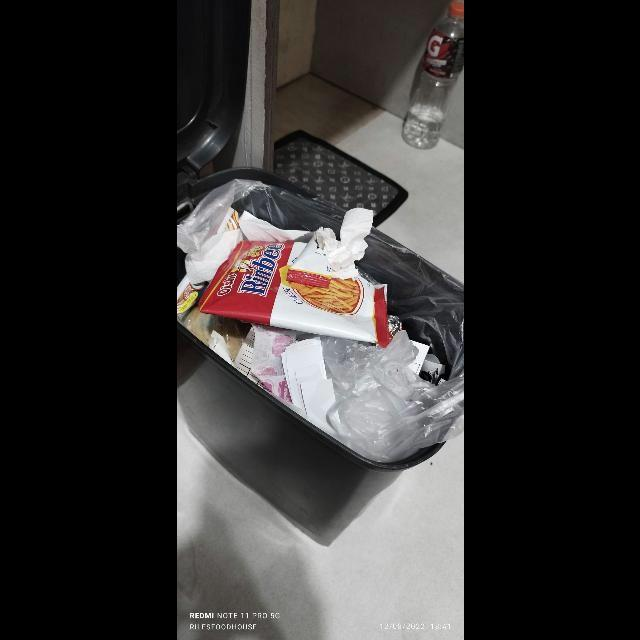food_wrapper: (197, 237, 389, 348)
paper: (184, 210, 310, 284), (280, 336, 335, 426), (317, 208, 373, 274)
plastic_bag: (318, 329, 464, 463)
